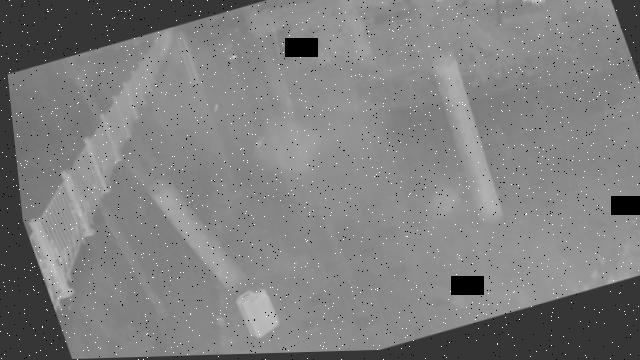bag: (226, 285, 278, 342)
